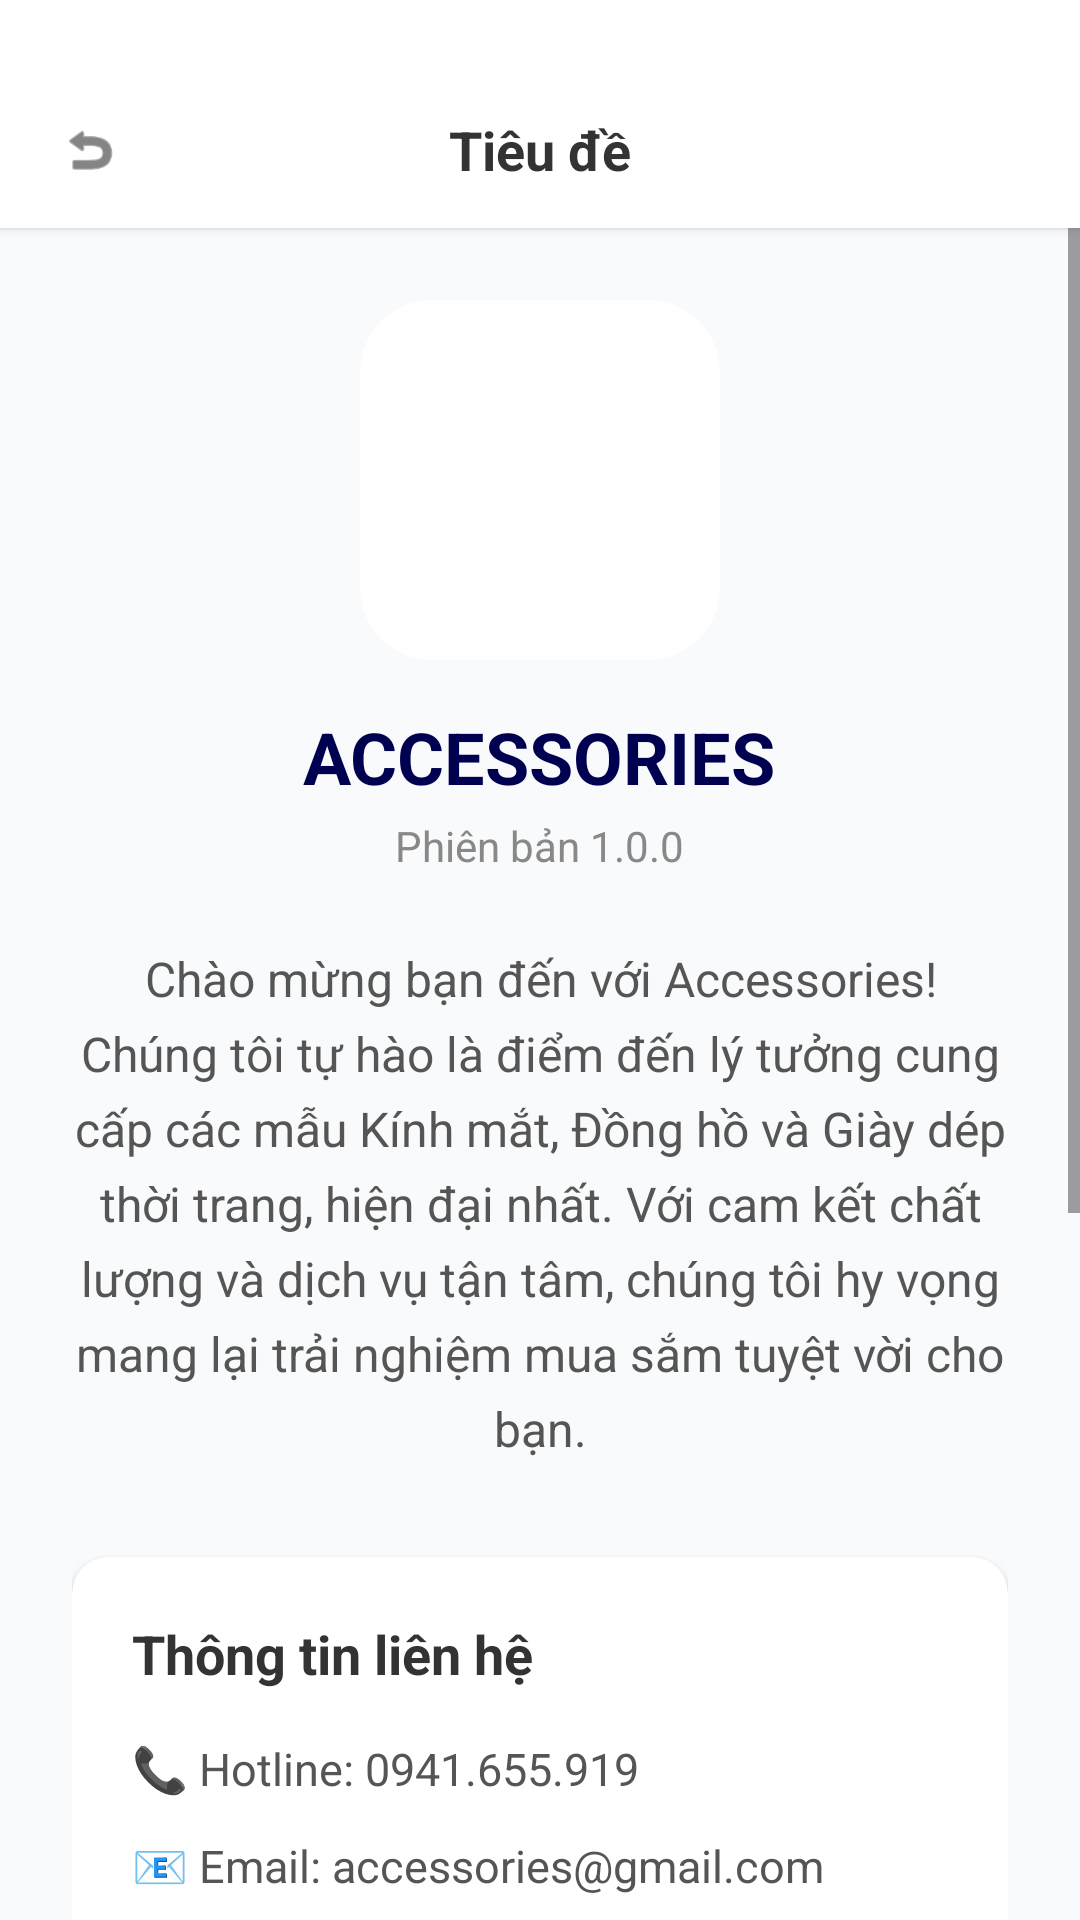

Screen size 1080px×1920px. Icon name, then its center in pixels as (x=x, y=y):
revert: (x=90, y=150)
